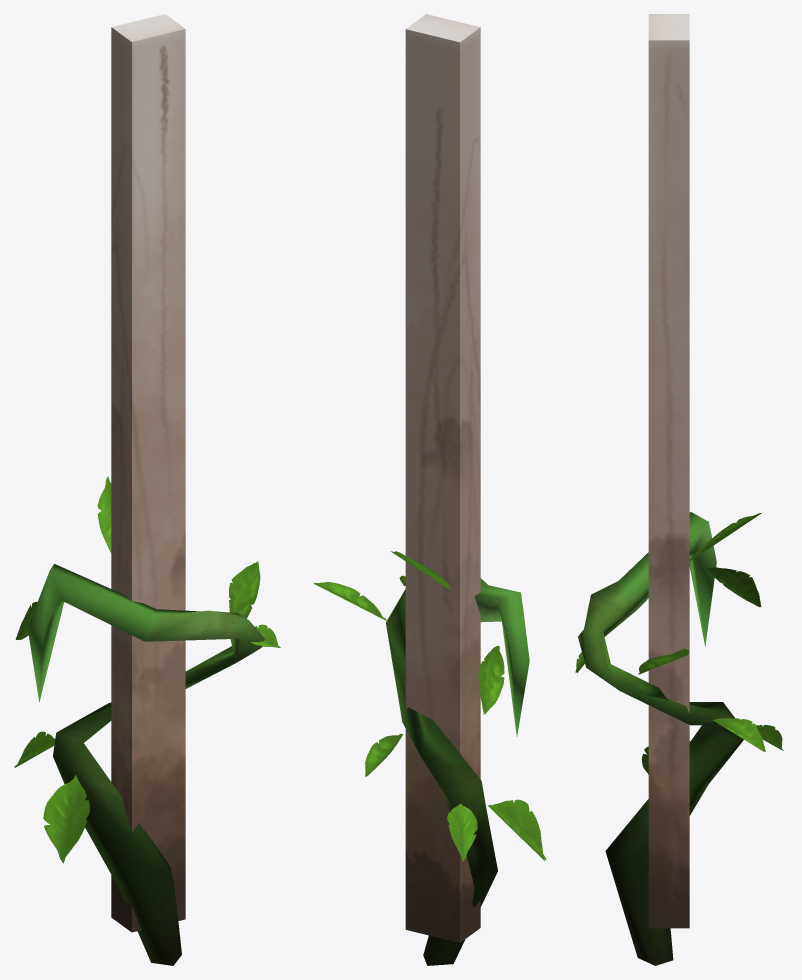
The model's file is pepper_stage1.FBX.
The picture shows the model from 3 angles, left to right: view 1: azimuth 30°, elevation 25°; view 2: azimuth 150°, elevation 25°; view 3: azimuth 270°, elevation 25°; orthographic projection.
Visible parts, largest first — view 1: pepper_stage1; view 2: pepper_stage1; view 3: pepper_stage1.
Boxes of the visible parts, left/top/right/bottom form: pepper_stage1: left=14, top=14, right=280, bottom=965; pepper_stage1: left=313, top=14, right=546, bottom=965; pepper_stage1: left=575, top=14, right=783, bottom=965.
Size of the model in its own units: 1.15 by 4.4 by 0.9146.
1 material, 1 textured.
